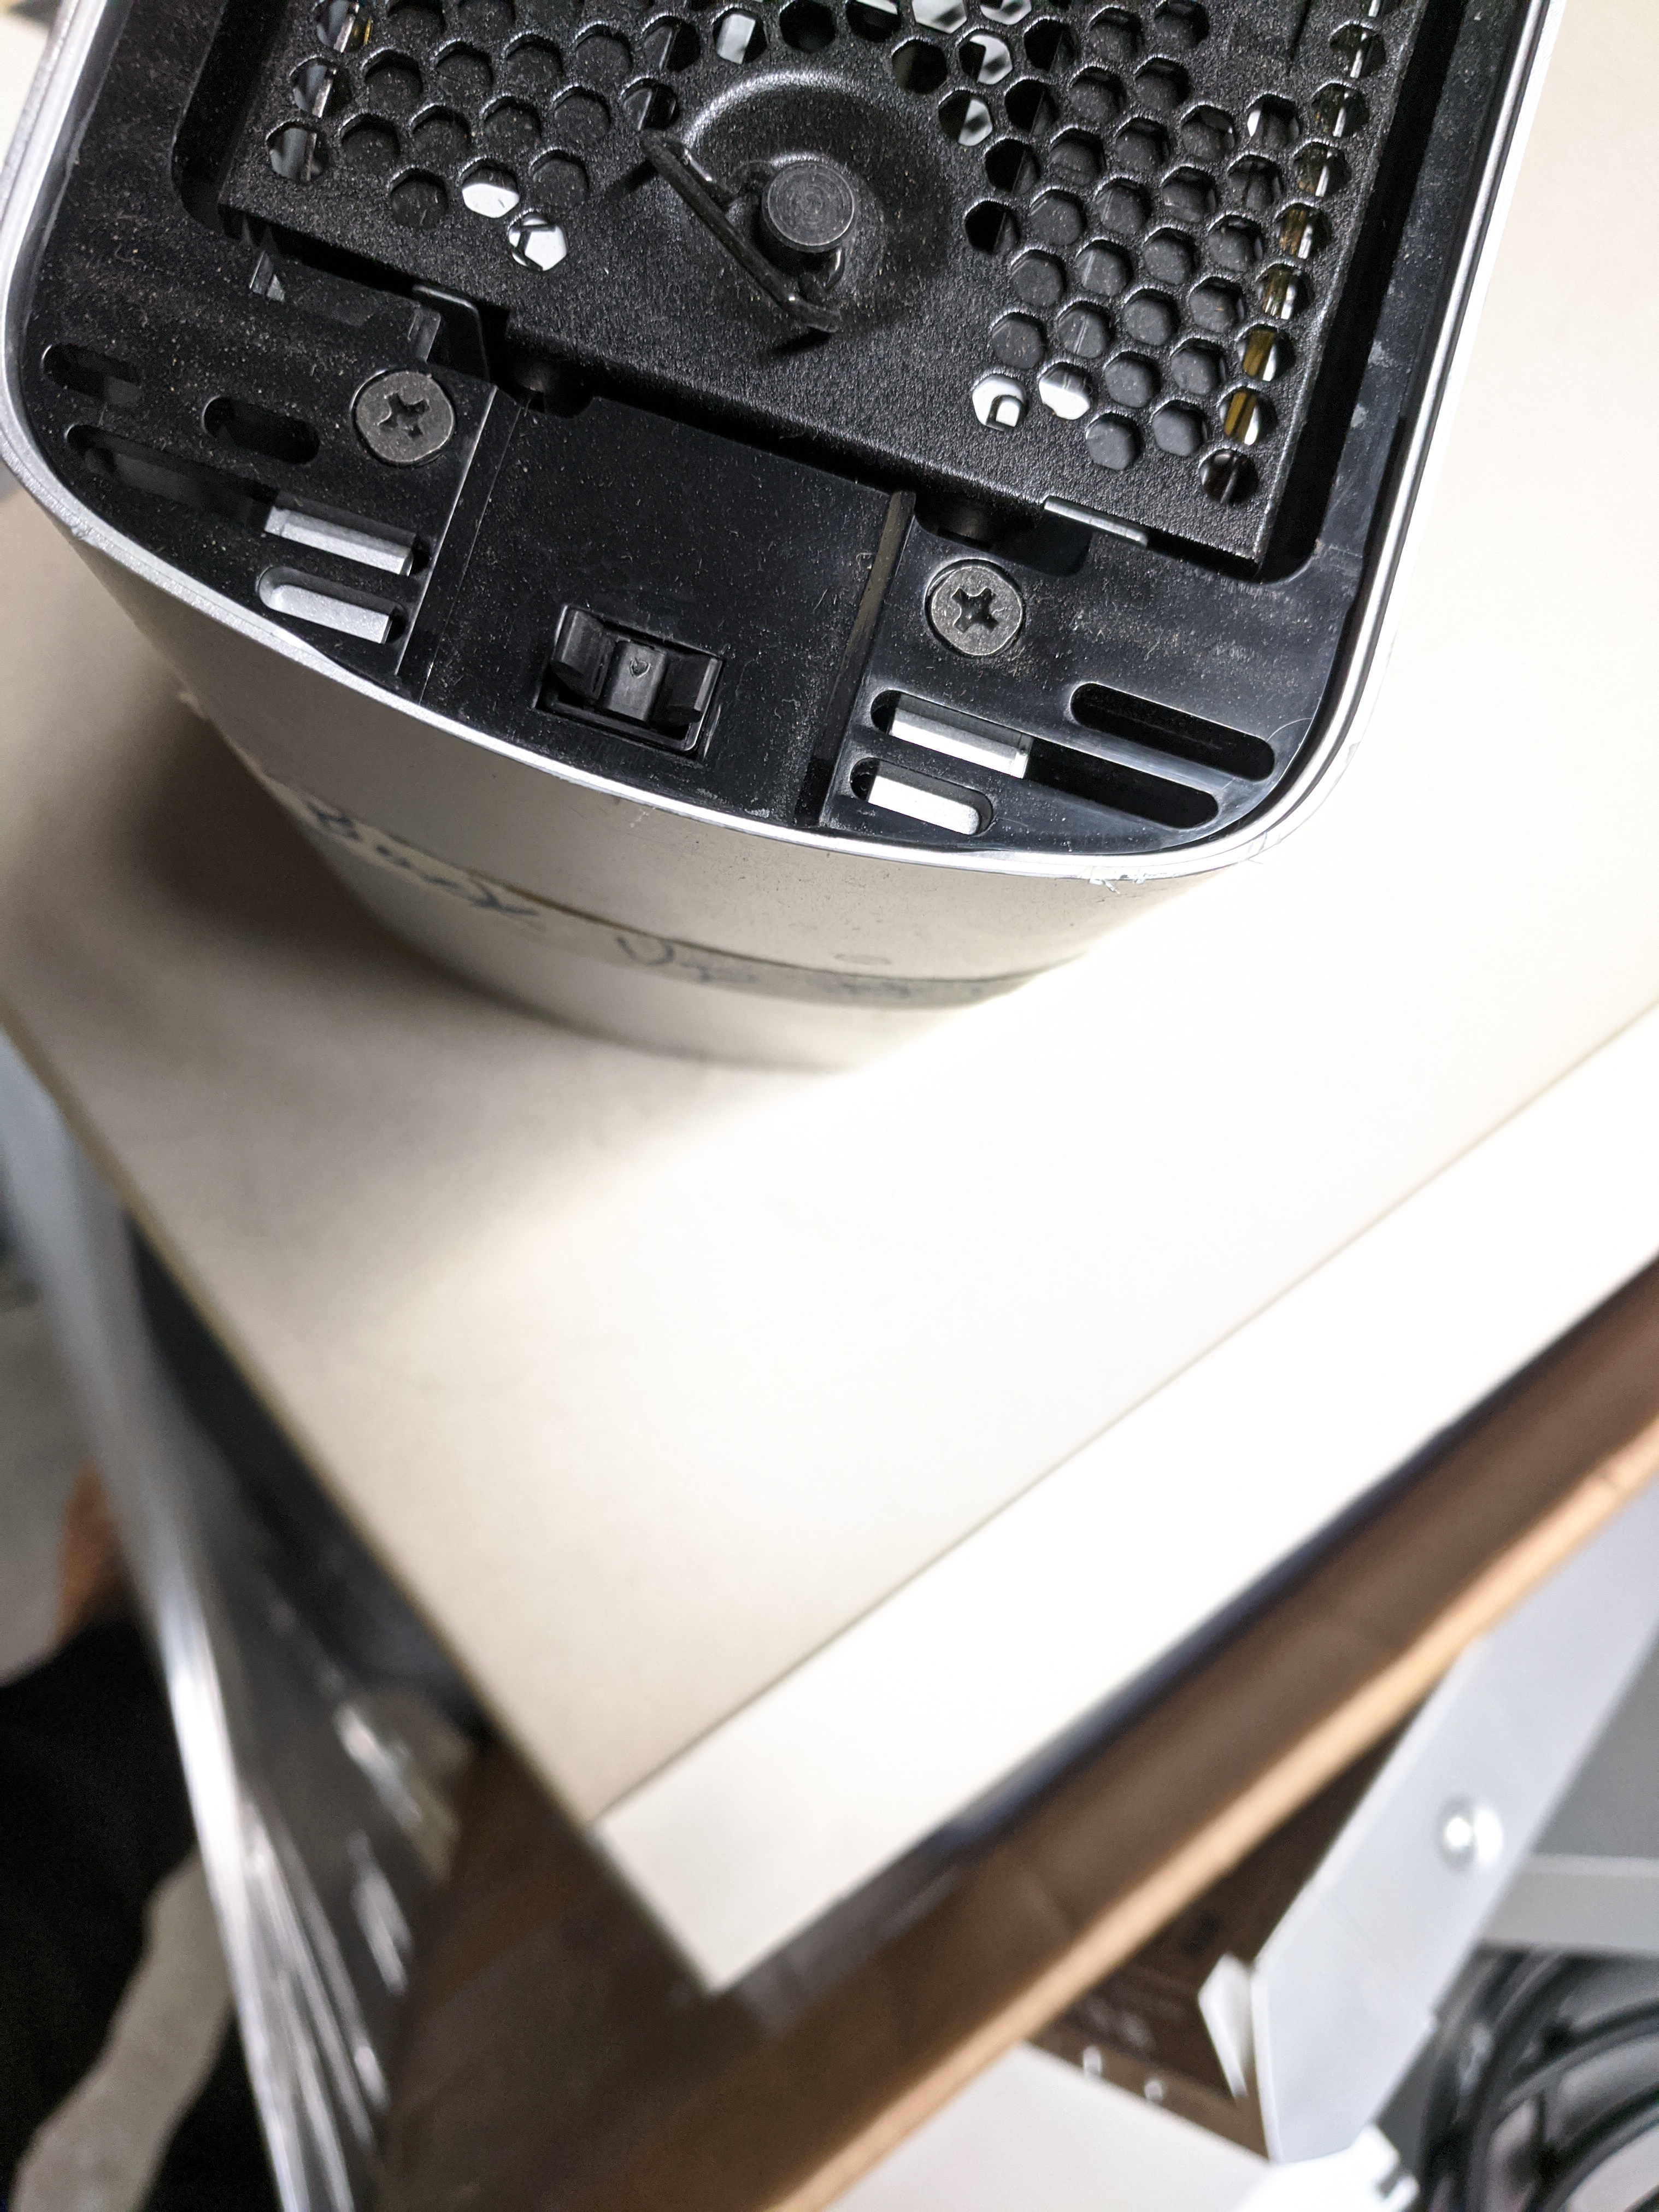cross_recessed_screw: (343, 355, 464, 474), (917, 549, 1035, 657)
